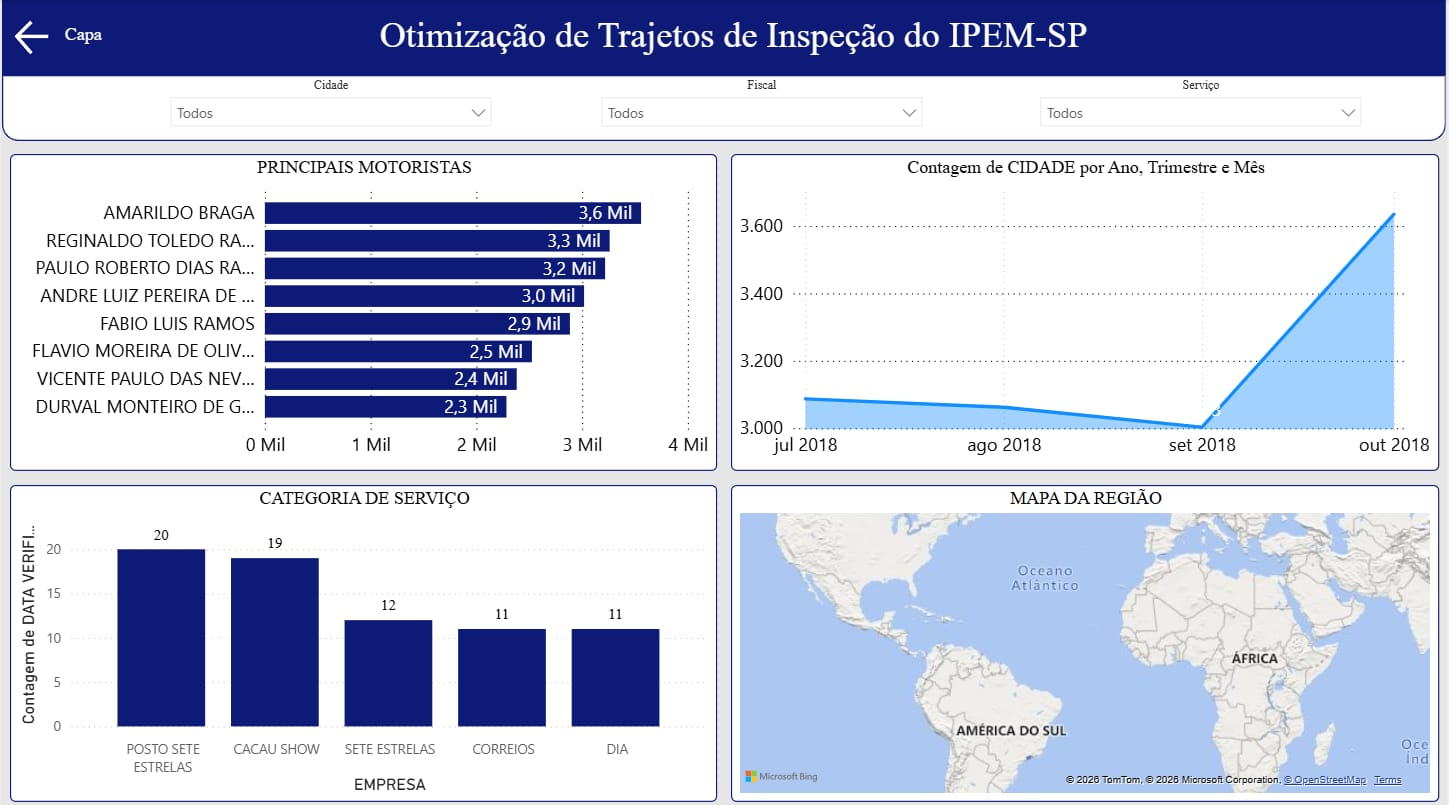

What the dashboard file says about the page in this screenshot:
{"tool":"powerbi","page":{"name":"Página 5","canvas":[1280,720],"ordinal":2},"visuals":[{"type":"shape","box":[0,66.5,1280.4,58.5],"z":0},{"type":"barChart","title":"TOTAL FISCALIZAÇÃO POR CIDADE","fields":{"Category":["data_v1_tratado.CIDADE"],"Y":["Count(data_v1_tratado.NR_INMETRO)"]},"box":[7.1,136.6,627,281],"z":1000},{"type":"columnChart","title":"PRINCIPAIS FISCAIS","fields":{"Category":["data_v1_tratado.NOME DO FISCAL"],"Y":["CountNonNull(data_v1_tratado.NR_INMETRO)"]},"box":[646.4,136.6,627.8,281.1],"z":2000},{"type":"donutChart","title":"CATEGORIA DE SERVIÇO","fields":{"Category":["data_v1_tratado.SERVICO"],"Y":["CountNonNull(data_v1_tratado.CIDADE)"]},"box":[7.1,430,626.9,281.1],"z":3000},{"type":"filledMap","title":"MAPA DA REGIÃO","fields":{"Category":["data_v1_tratado.CIDADE"]},"box":[646.4,430,627.8,281.1],"z":4000},{"type":"shape","box":[0,0,1280.4,66.5],"z":5000},{"type":"textbox","box":[329.9,8,654.4,51.4],"z":5001},{"type":"actionButton","box":[7.1,13.3,55.9,39.9],"z":5003},{"type":"textbox","box":[50.5,16.8,63.8,36.4],"z":5004},{"type":"slicer","title":"Cidade","fields":{"Values":["data_v1_tratado.CIDADE"]},"box":[139.2,70,305,51.4],"z":5005},{"type":"slicer","title":"Fiscal","fields":{"Values":["data_v1_tratado.NOME DO FISCAL"]},"box":[521.4,70,305,51.4],"z":5006},{"type":"slicer","title":"Serviço","fields":{"Values":["data_v1_tratado.SERVICO"]},"box":[910.6,70,305,51.4],"z":5007}]}

Visuals, with their boxes in screenshot pixels (x1, y1, x2, y2), scaled from the page's 1280x720 canvas onto the 1449x805 screenshot:
shape: 0, 74, 1448, 140
"TOTAL FISCALIZAÇÃO POR CIDADE" barChart: 8, 153, 718, 467
"PRINCIPAIS FISCAIS" columnChart: 732, 153, 1442, 467
"CATEGORIA DE SERVIÇO" donutChart: 8, 481, 718, 795
"MAPA DA REGIÃO" filledMap: 732, 481, 1442, 795
shape: 0, 0, 1448, 74
textbox: 373, 9, 1114, 66
actionButton: 8, 15, 71, 59
textbox: 57, 19, 129, 59
"Cidade" slicer: 158, 78, 503, 136
"Fiscal" slicer: 590, 78, 936, 136
"Serviço" slicer: 1031, 78, 1376, 136
